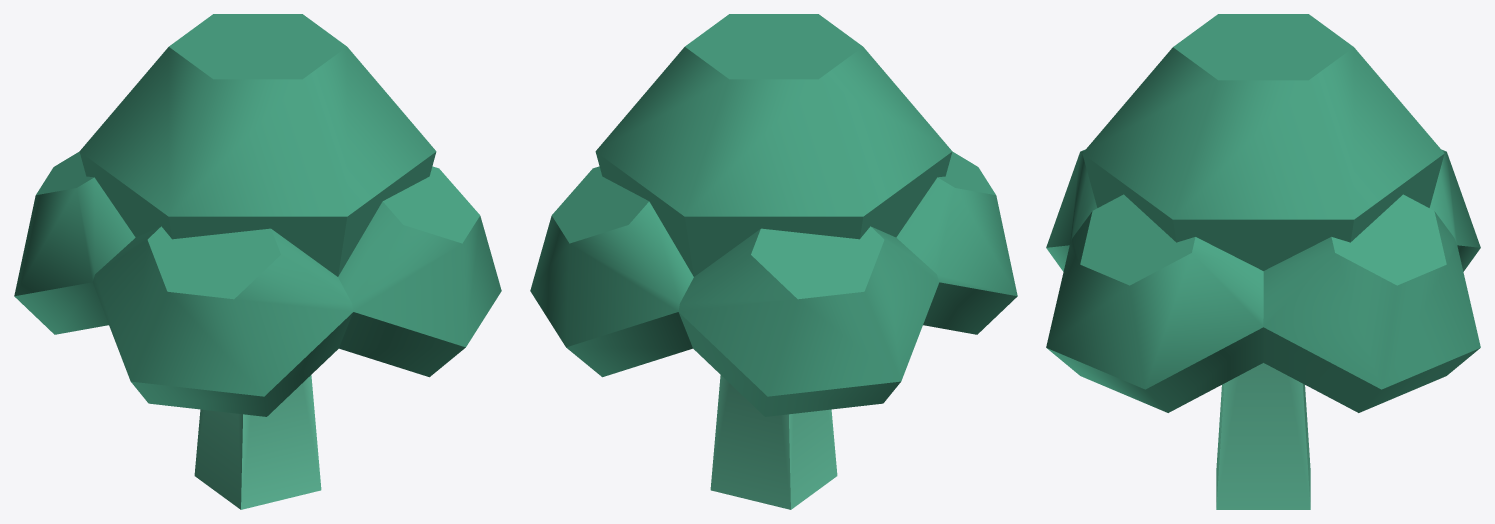
The model's file is broccoli.glb.
3 views of the same model, side by side, from view 1: azimuth 30°, elevation 25°; view 2: azimuth 150°, elevation 25°; view 3: azimuth 270°, elevation 25° (orthographic).
Parts seen in each view (by area): view 1: broccoli; view 2: broccoli; view 3: broccoli.
Boxes of the visible parts, left/top/right/bottom form: broccoli: left=14, top=14, right=501, bottom=509; broccoli: left=530, top=14, right=1017, bottom=509; broccoli: left=1046, top=14, right=1480, bottom=509.
Size of the model in its own units: 0.3752 by 0.4217 by 0.3752.
